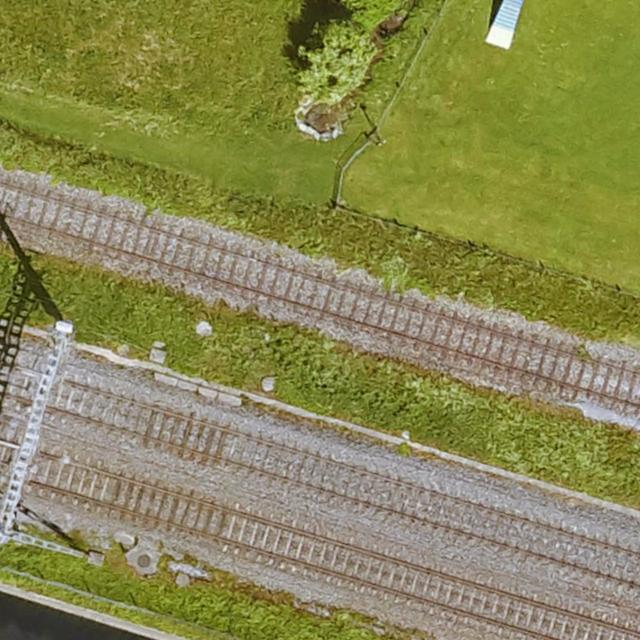tree: (295, 22, 371, 88)
